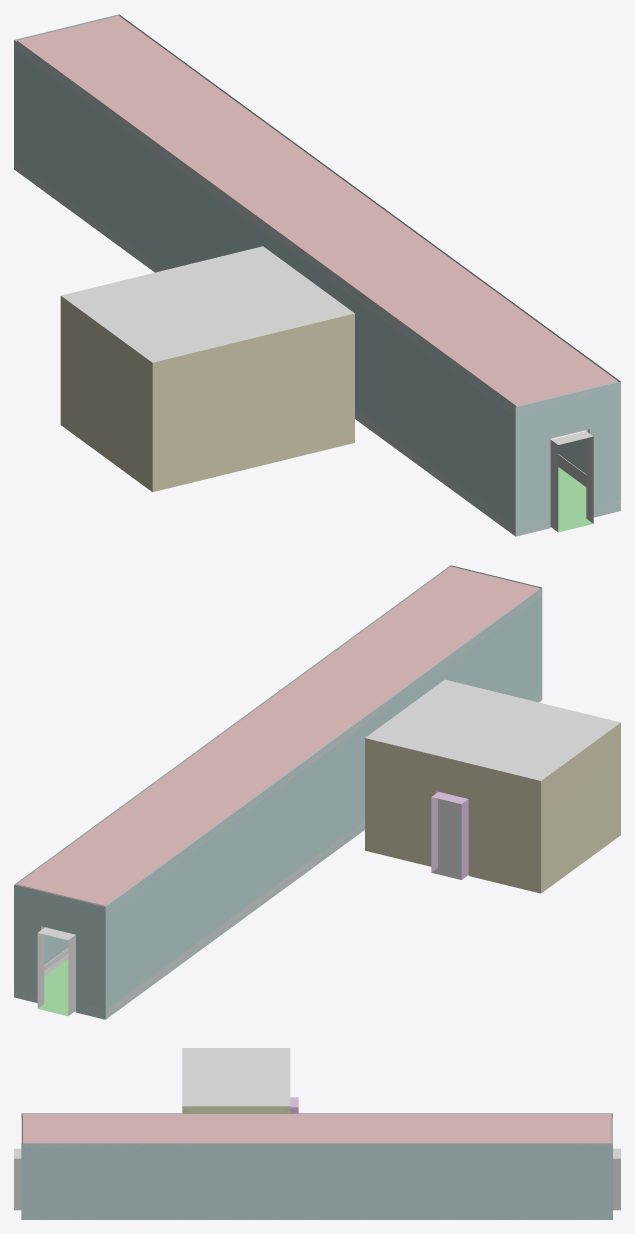
Rendered from Hall_Long.fbx.
3 views of the same model, one above another, from view 1: azimuth 30°, elevation 25°; view 2: azimuth 150°, elevation 25°; view 3: azimuth 270°, elevation 25° (orthographic). The views are drawn at different scales.
Parts seen in each view (by area): view 1: Hall_Long; view 2: Hall_Long; view 3: Hall_Long.
Boxes of the visible parts, left/top/right/bottom form: Hall_Long: left=14, top=14, right=620, bottom=536; Hall_Long: left=14, top=565, right=620, bottom=1019; Hall_Long: left=14, top=1048, right=620, bottom=1219.
Size of the model in its own units: 817 by 304 by 2193.
